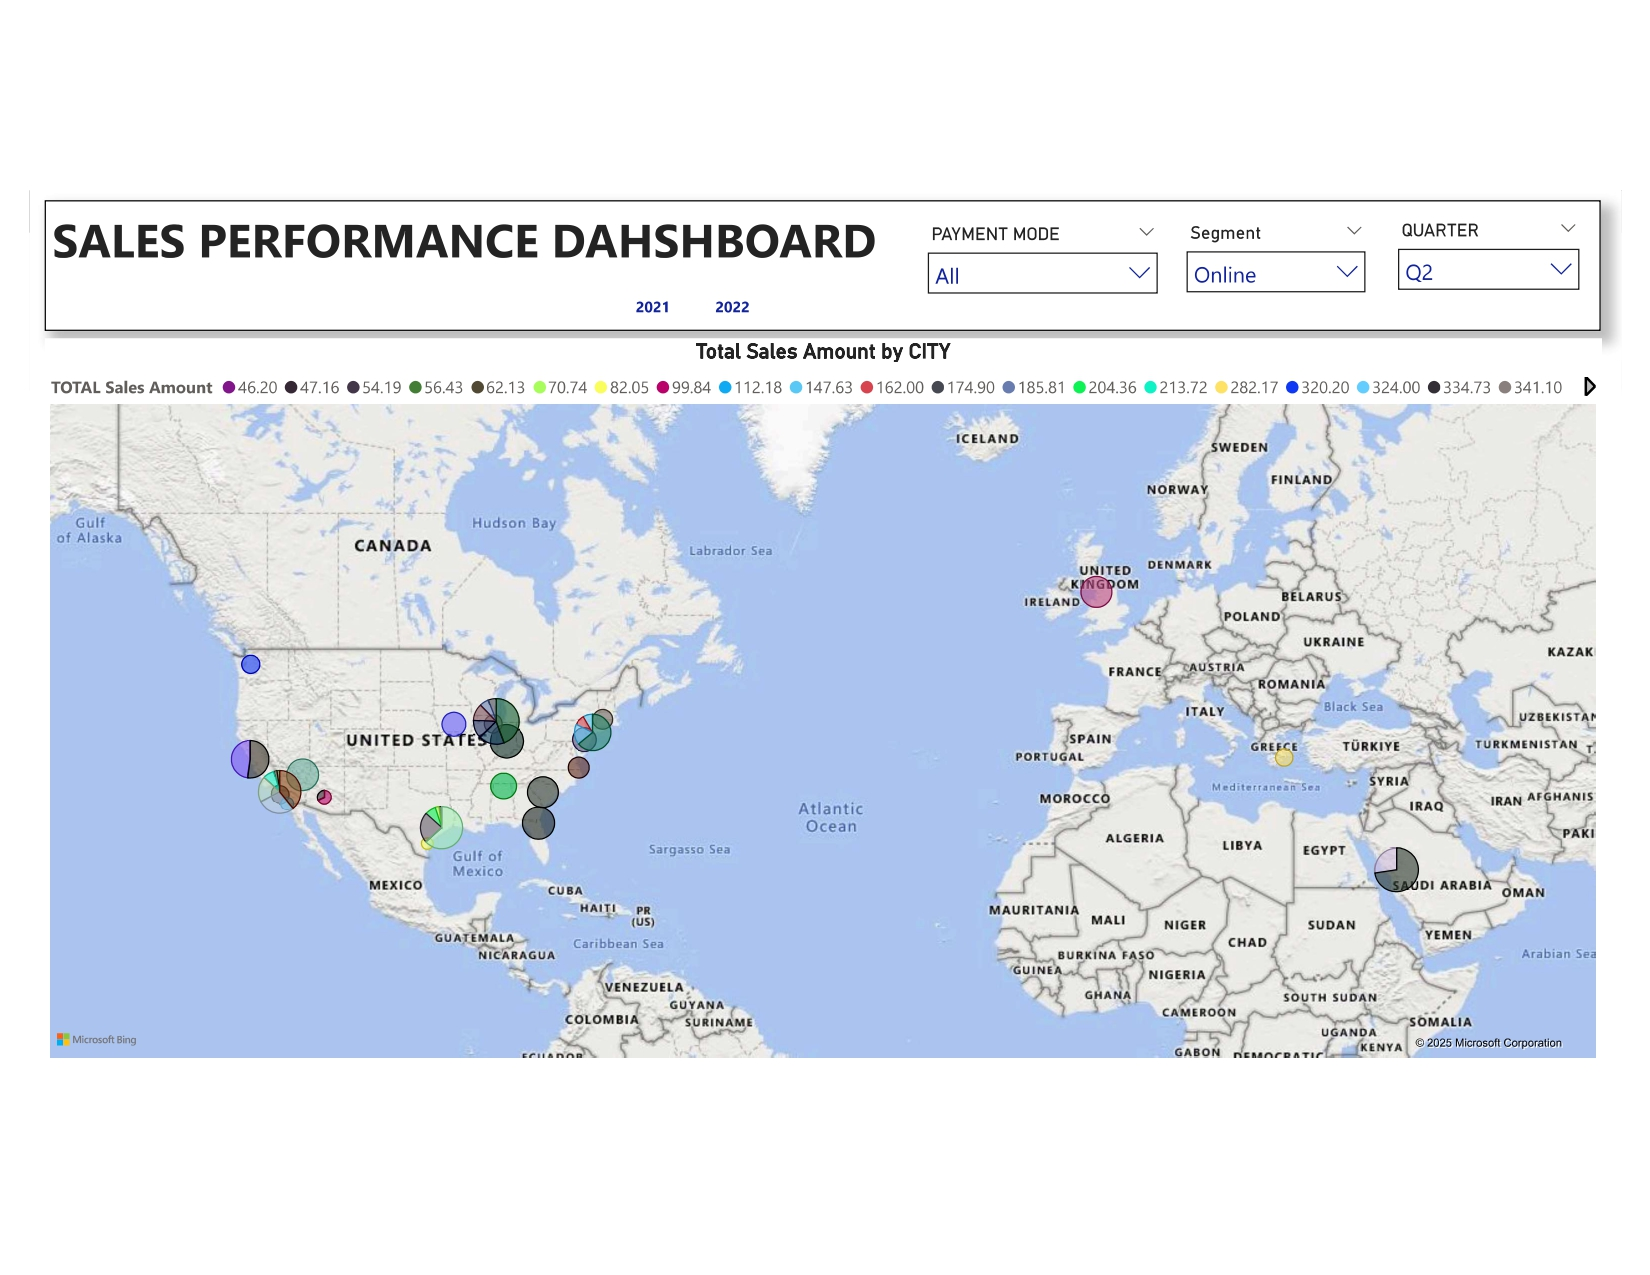

Layout of this report page (visuals, bound fields, positions):
{"tool":"powerbi","page":{"name":"MAP","canvas":[1280,720],"ordinal":2},"visuals":[{"type":"textbox","box":[11.8,8.4,1251.4,104.1],"z":0},{"type":"slicer","fields":{"Values":["InputData.Segment"]},"box":[920.5,20.7,163.8,67.8],"z":3000},{"type":"slicer","fields":{"Values":["InputData.PAYMENT MODE"]},"box":[712.2,21.8,204.9,67.2],"z":4000},{"type":"slicer","fields":{"Values":["InputData.Year"]},"box":[443.7,67.2,176.3,50.8],"z":5000},{"type":"slicer","fields":{"Values":["InputData.QUARTER"]},"box":[1089.9,18.8,165.6,69.6],"z":6000},{"type":"map","title":"Total Sales Amount by CITY ","fields":{"Size":["Sum(InputData.TOTAL Sales Amount)"],"Category":["InputData.CITY"],"Series":["InputData.TOTAL Sales Amount"]},"box":[11.8,119,1251.9,583.3],"z":13000}]}

Visuals, with their boxes on the page's 1280x720 design canvas (x1, y1, x2, y2). These are canvas units, not pixel positions in the 1650x1275 screenshot, which may show the page scaled, cropped or inside an application window:
textbox: 12, 8, 1263, 112
slicer - InputData.Segment: 920, 21, 1084, 88
slicer - InputData.PAYMENT MODE: 712, 22, 917, 89
slicer - InputData.Year: 444, 67, 620, 118
slicer - InputData.QUARTER: 1090, 19, 1256, 88
"Total Sales Amount by CITY " map: 12, 119, 1264, 702
